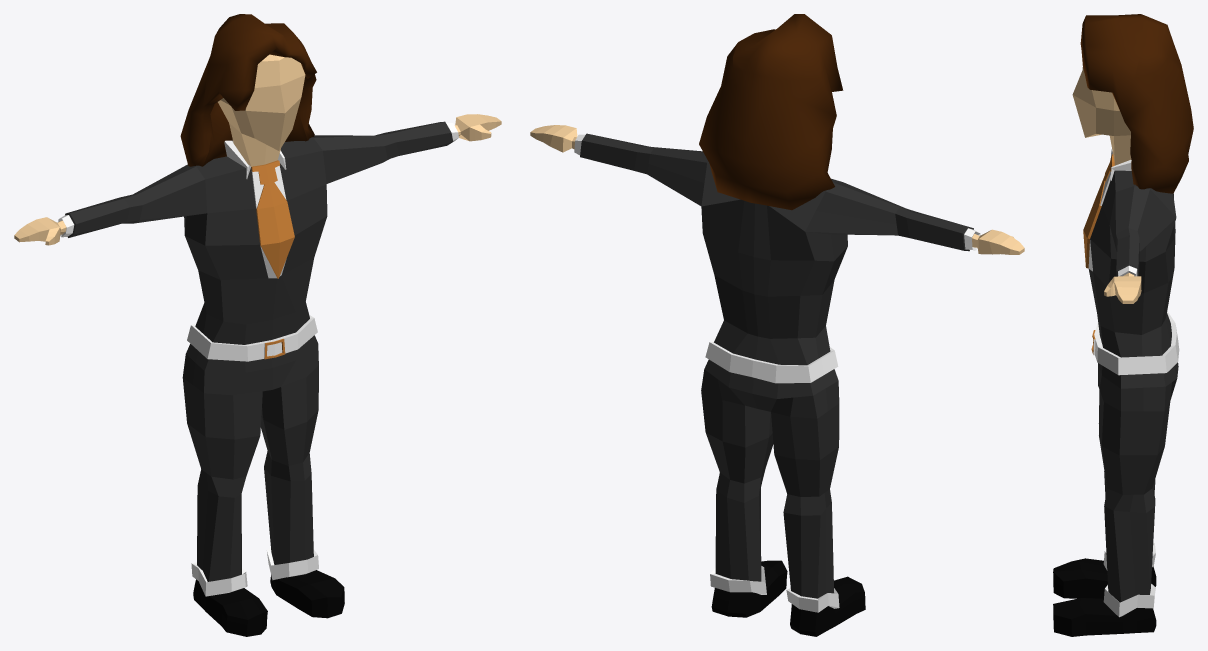
File: mainCharacter.fbx
3 renders of one model, left to right at view 1: azimuth 30°, elevation 25°; view 2: azimuth 150°, elevation 25°; view 3: azimuth 270°, elevation 25°, orthographic.
Visible parts, largest first — view 1: Cube.001, Cube.002; view 2: Cube.001, Cube.002; view 3: Cube.001, Cube.002.
Boxes of the visible parts, box(x1,y1,x2,y2) form: Cube.001: box(14, 54, 501, 636); Cube.002: box(180, 14, 316, 166); Cube.001: box(530, 125, 1024, 636); Cube.002: box(699, 14, 843, 210); Cube.001: box(1053, 67, 1179, 636); Cube.002: box(1080, 14, 1193, 193).
Bounding box in the file's own units: 1311 × 1509 × 326.
